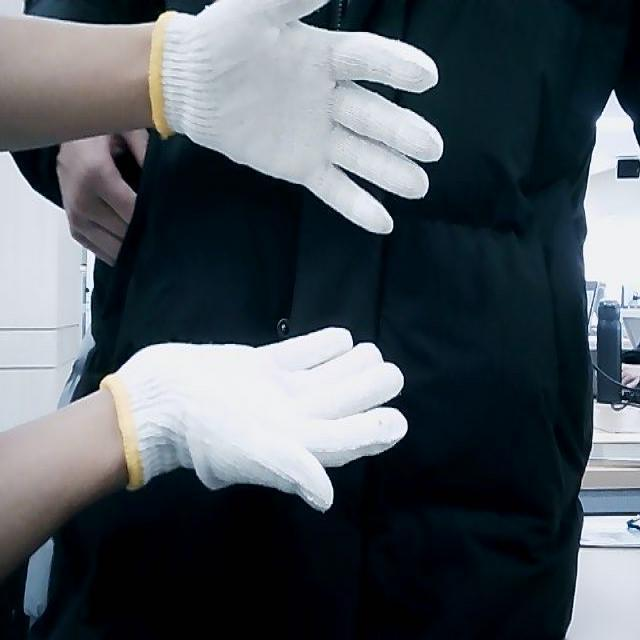gloves: (150, 0, 441, 239), (100, 326, 407, 510)
